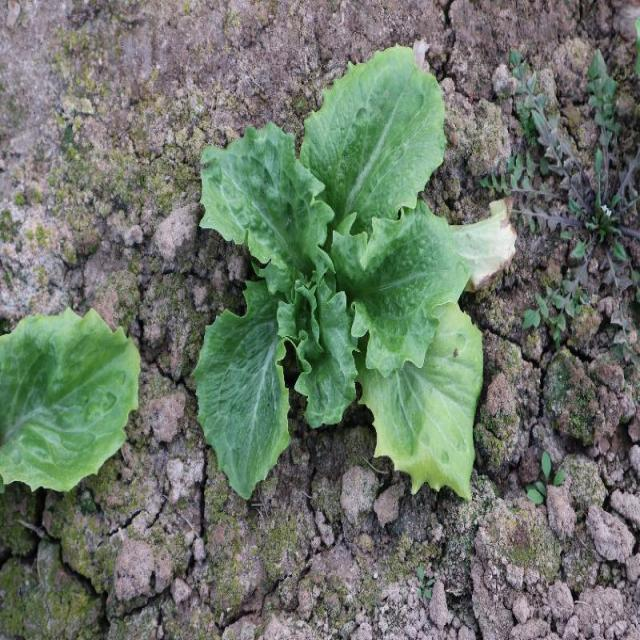crop: (196, 44, 481, 507)
